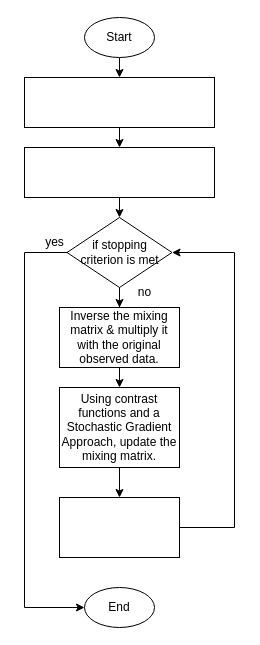
Some shapes in this 260 by 645 pixel diagram are drawn without their labels. Each missing label, with the centre of its shape:
Decorrelate the updated mixing vectors.: the point at 119,527
Generate the mixing matrix (weights) randomly.: the point at 119,172
Normalize the observed signals to have zero mean and unit variance.: the point at 119,102
